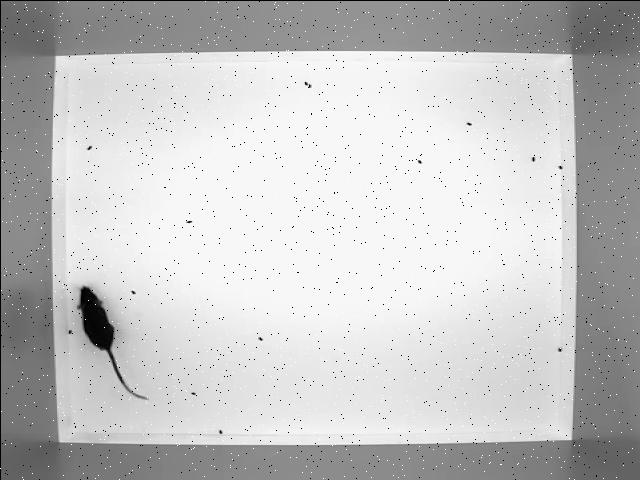Tikus: (75, 285, 149, 401)
